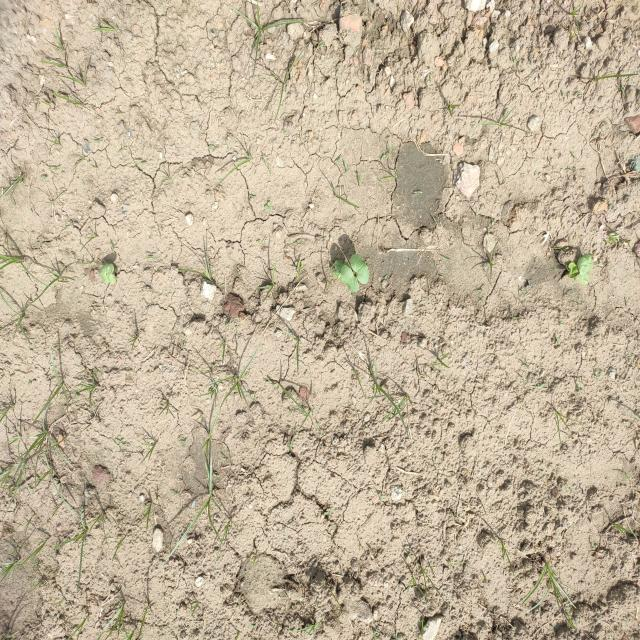seedling_s2: (351, 254, 369, 284), (341, 265, 359, 292), (98, 264, 116, 284), (577, 257, 588, 277), (333, 260, 343, 279), (583, 254, 594, 271), (574, 273, 589, 284)
